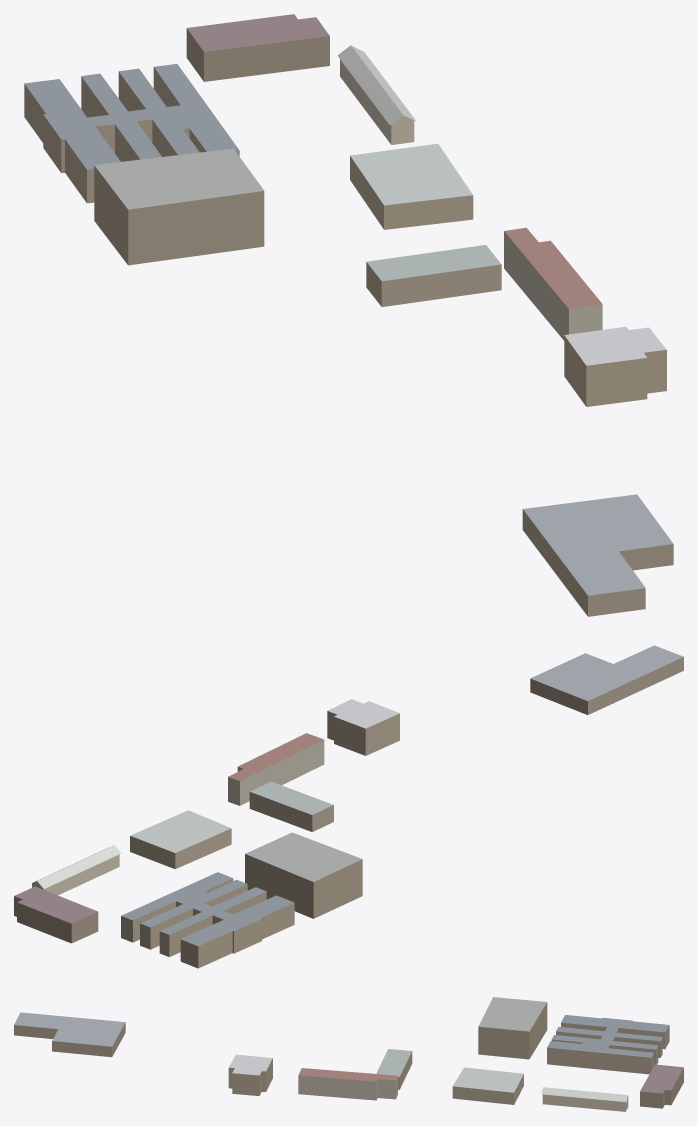
3 renders of one model, top to bottom at view 1: azimuth 30°, elevation 25°; view 2: azimuth 150°, elevation 25°; view 3: azimuth 270°, elevation 25°, orthographic. The views are drawn at different scales.
Parts seen in each view (by area): view 1: tuile; view 2: tuile; view 3: tuile.
Boxes of the visible parts, left/top/right/bottom form: tuile: left=24, top=14, right=673, bottom=616; tuile: left=14, top=645, right=683, bottom=968; tuile: left=14, top=997, right=683, bottom=1111.
Size of the model in its own units: 71.73 by 10.42 by 218.
